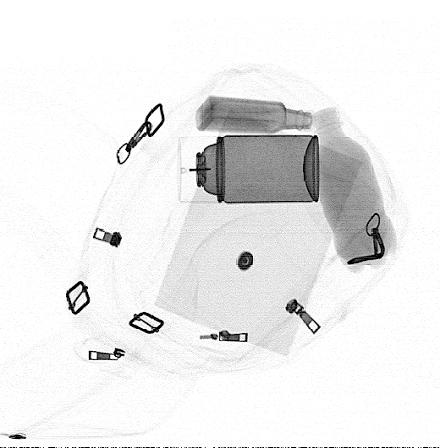Sprayer: (179, 134, 319, 203)
